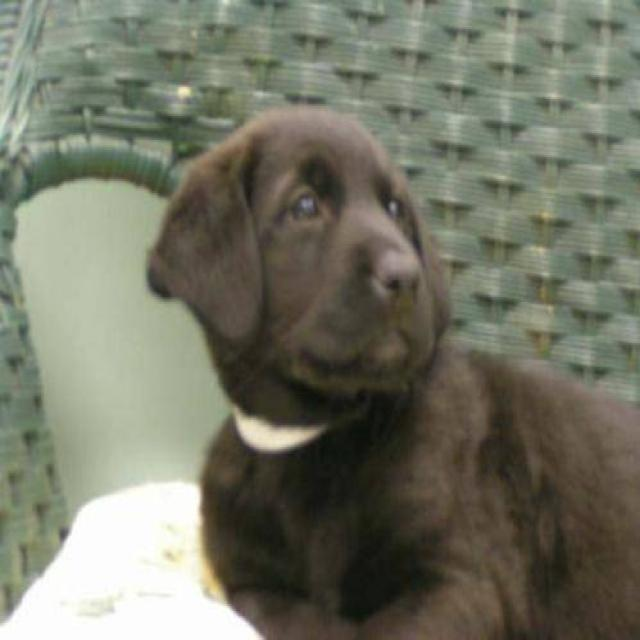dog: (144, 102, 638, 638)
